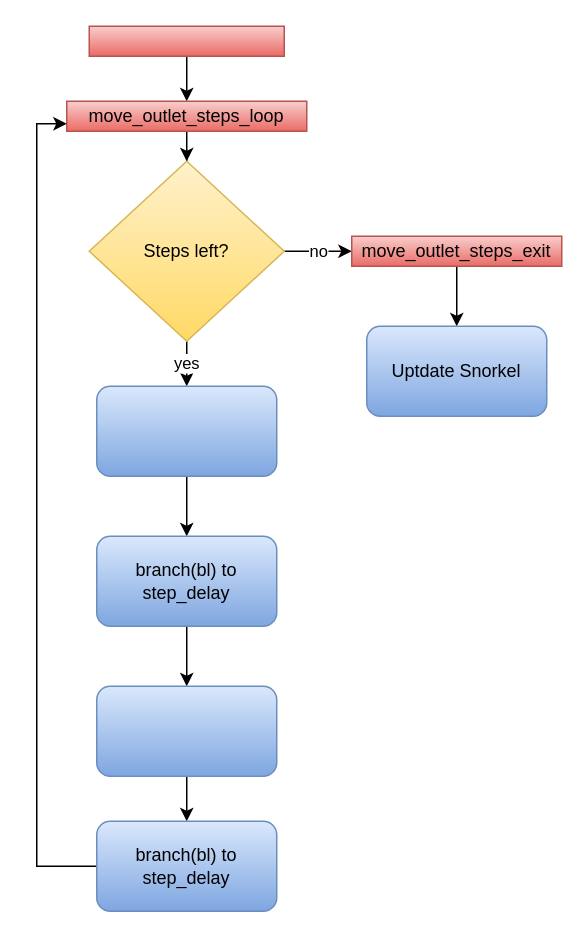
Image size: 588x938. Some labels were removed from this diagram. The shapes that lost their labels are listed below. From the top down, each one's centre as x and y in pixels, then its label:
pixel 186 40: move_outlet_steps
pixel 186 430: Rising edge
pixel 186 730: Falling edge
